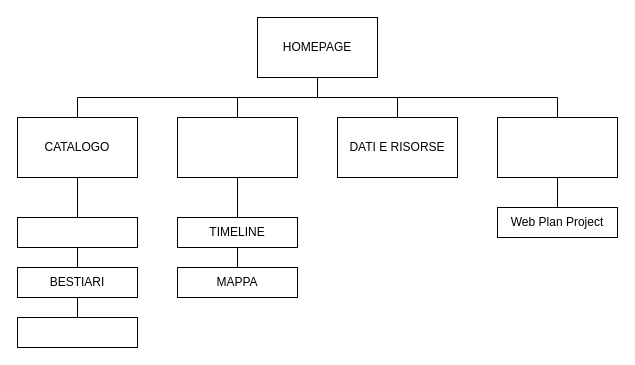
Image size: 635x365. Some labels were removed from this diagram. The shapes that lost their labels are listed below. From the top down, each one's box as (x1, y1, x2, y2) in pixels, then its label:
(176, 116, 298, 178): STRUMENTI / FUNZIONALITA'
(496, 116, 618, 178): INFO
(16, 216, 138, 248): MINIATURE
(16, 316, 138, 348): SIMBOLI
